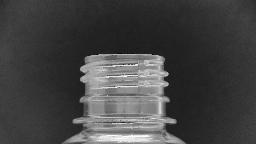No Cap: (69, 48, 179, 128)
